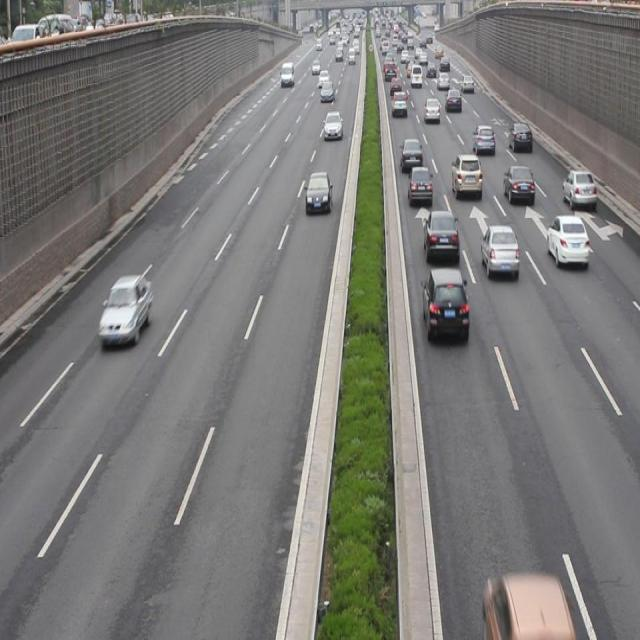car: (481, 573, 574, 631), (100, 274, 153, 346), (421, 266, 469, 342), (546, 214, 587, 268), (480, 224, 518, 279), (422, 212, 458, 260), (560, 166, 596, 207), (450, 154, 481, 196), (303, 170, 332, 212), (503, 164, 534, 202), (407, 164, 430, 205), (505, 121, 532, 152), (399, 138, 422, 167), (472, 124, 494, 153), (323, 109, 342, 140)
